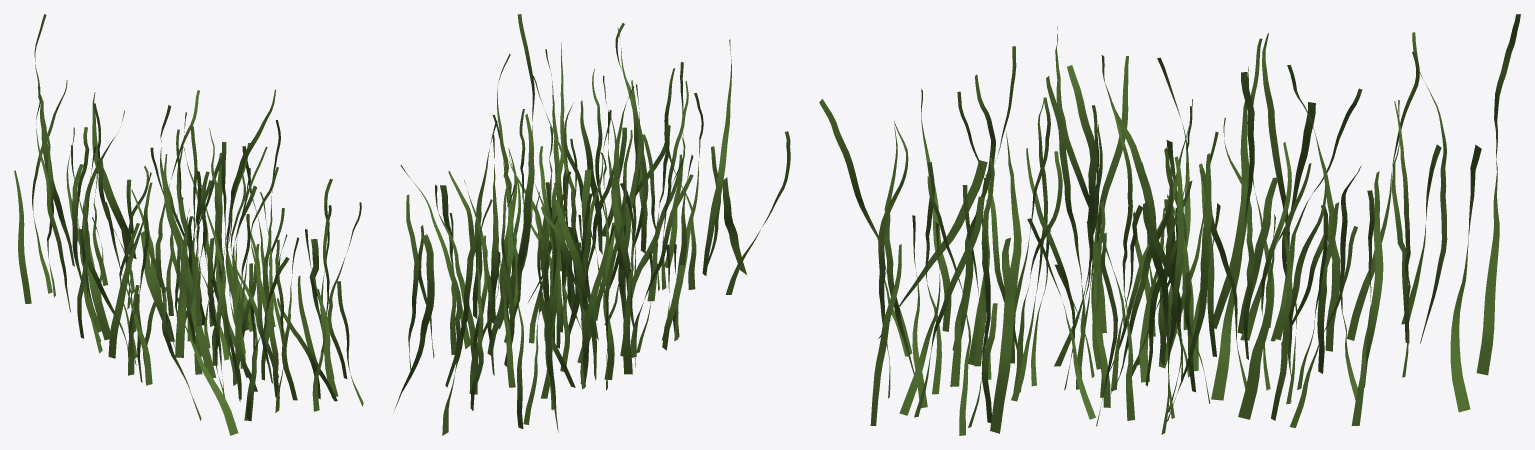
The model's file is plant_swamp_kelp_long_B_medium.fbx.
3 renders of one model, left to right at view 1: azimuth 30°, elevation 25°; view 2: azimuth 150°, elevation 25°; view 3: azimuth 270°, elevation 25°, orthographic. The views are drawn at different scales.
Visible parts, largest first — view 1: plant_swamp_kelp_long_B_medium; view 2: plant_swamp_kelp_long_B_medium; view 3: plant_swamp_kelp_long_B_medium.
Boxes of the visible parts, x1,y1,x2,y2 form: plant_swamp_kelp_long_B_medium: (14, 14, 363, 435); plant_swamp_kelp_long_B_medium: (393, 14, 790, 435); plant_swamp_kelp_long_B_medium: (819, 14, 1520, 435).
Bounding box in the file's own units: 304 × 375 × 649.
